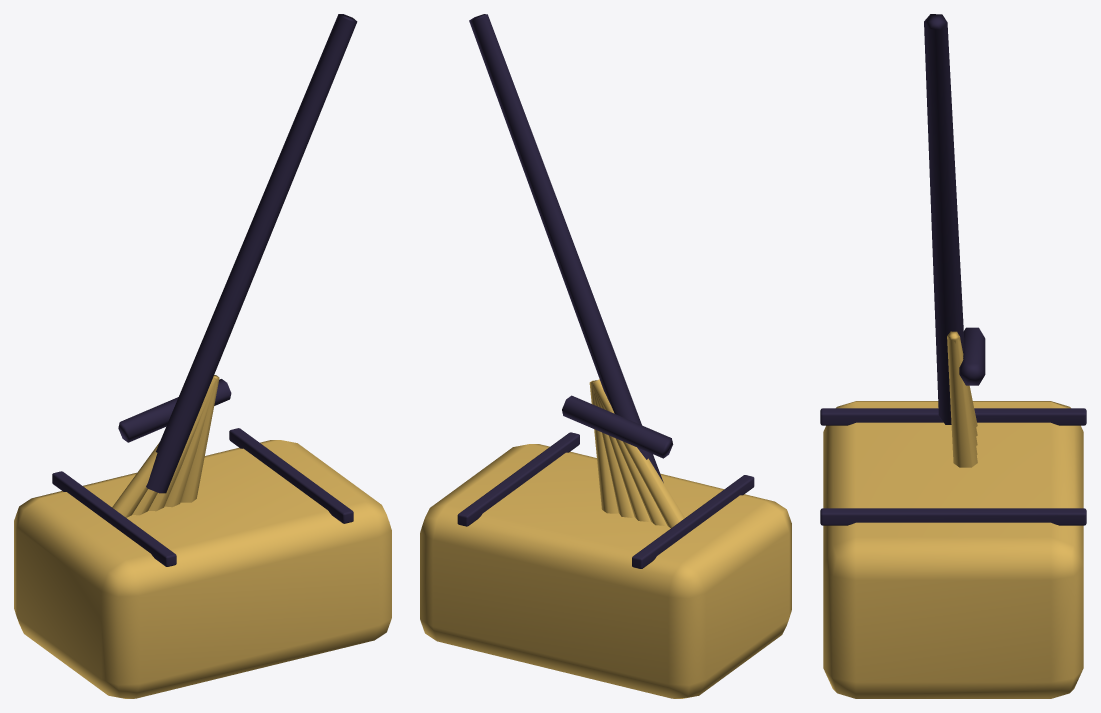
Rendered from broom_hay.glb.
The picture shows the model from 3 angles, left to right: view 1: azimuth 30°, elevation 25°; view 2: azimuth 150°, elevation 25°; view 3: azimuth 270°, elevation 25°; orthographic projection. The views are drawn at different scales.
Size of the model in its own units: 0.6515 by 1.29 by 0.45.
